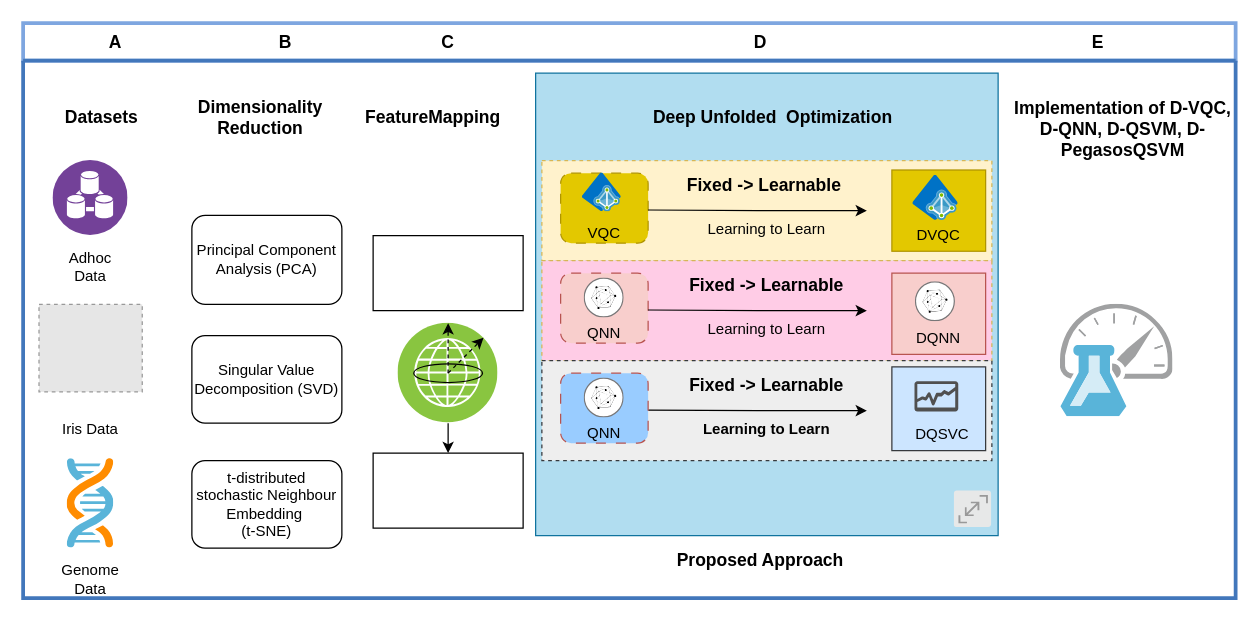
Some shapes in this 1259 by 621 pixel diagram are drawn without their labels. Grey dashed boxes stand in for pictures. Each missing label, with the centre of its shape:
"Embedding data in Hilbert Space" goes at point (447, 272).
"PauliFeatureMap ZZFeatureMap ZFeatureMap" goes at point (447, 490).
